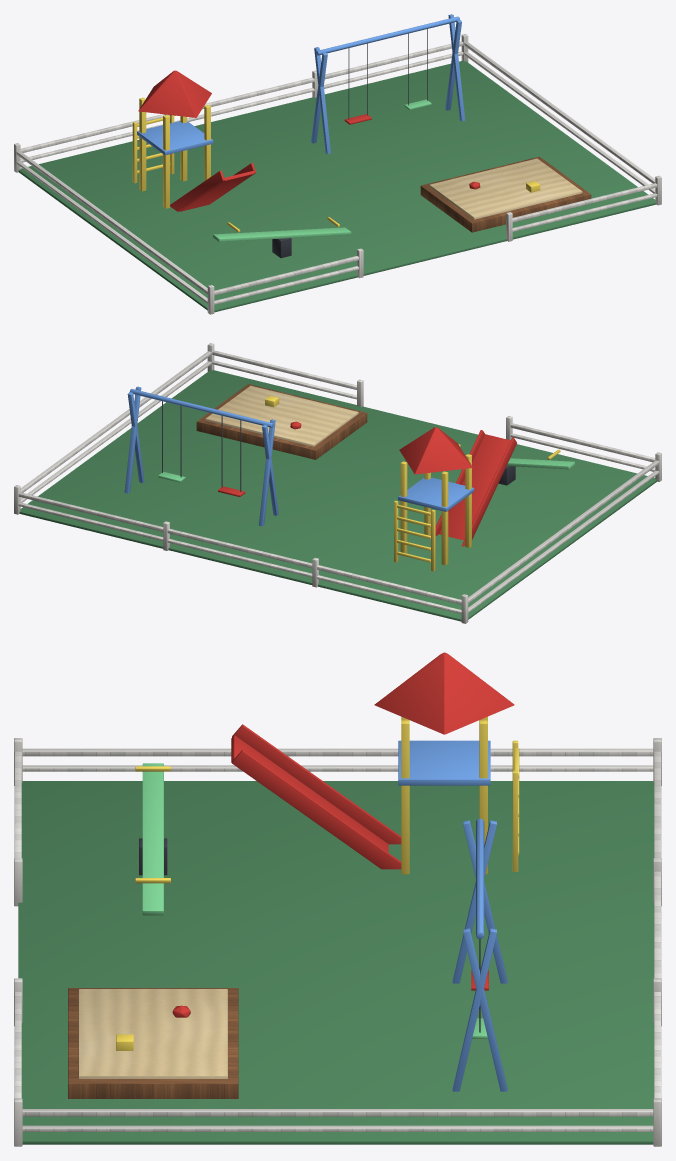
The model's file is playground.glb.
The picture shows the model from 3 angles, top to bottom: view 1: azimuth 30°, elevation 25°; view 2: azimuth 150°, elevation 25°; view 3: azimuth 270°, elevation 25°; orthographic projection. The views are drawn at different scales.
Visible parts, largest first — view 1: playground; view 2: playground; view 3: playground.
Part boxes in pixels (left/top/right/bottom): playground: left=14, top=14, right=661, bottom=314; playground: left=14, top=343, right=661, bottom=623; playground: left=14, top=652, right=661, bottom=1146.
Bounding box in the file's own units: 12.12 × 3.35 × 9.12.
Materials: 9 (6 with a texture image).
